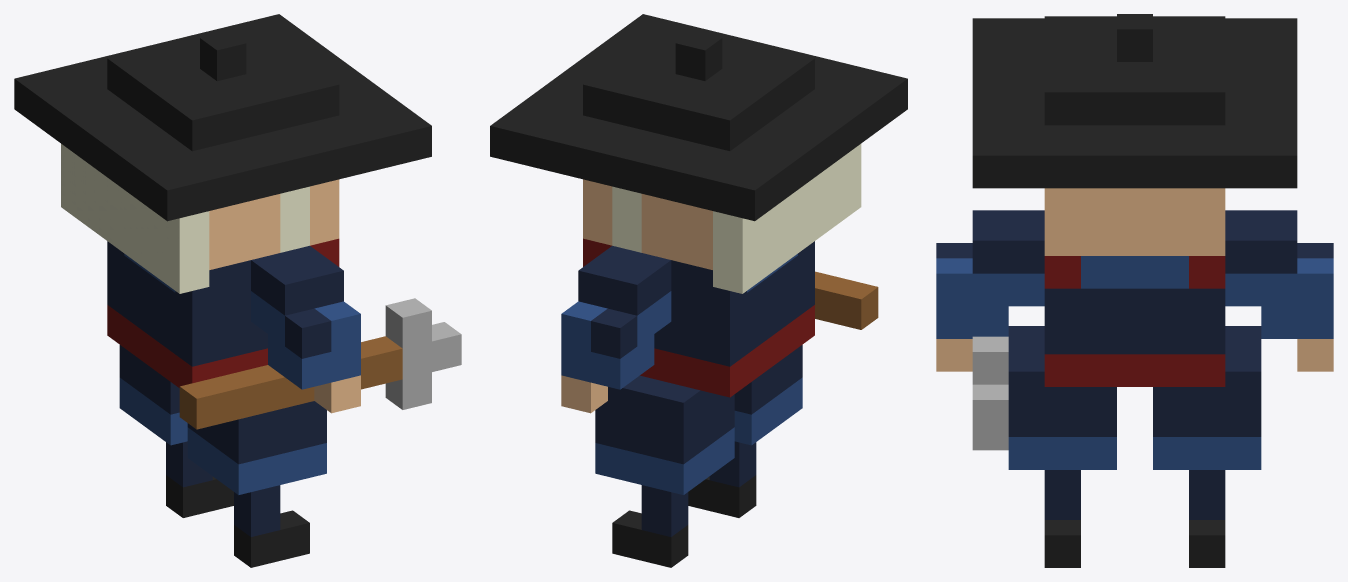
Rendered from ashigaru.obj.
3 renders of one model, left to right at view 1: azimuth 30°, elevation 25°; view 2: azimuth 150°, elevation 25°; view 3: azimuth 270°, elevation 25°, orthographic. The views are drawn at different scales.
Bounding box in the file's own units: 1 × 1.6 × 1.1.
1 material, 1 textured.
